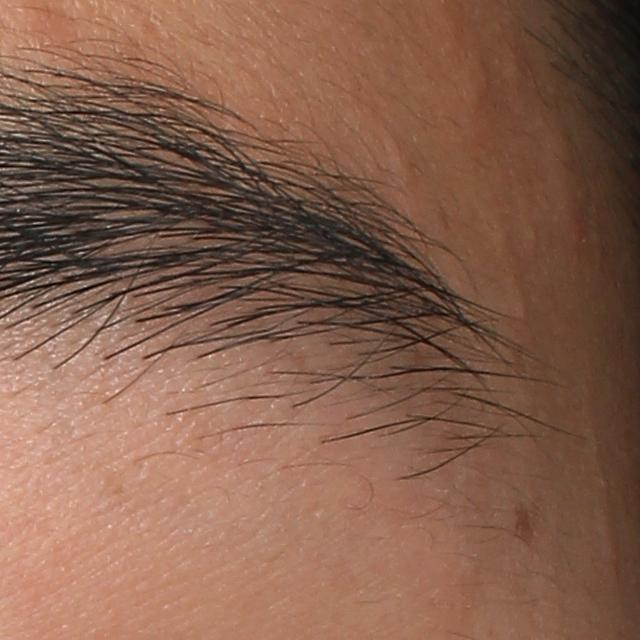nevus: (511, 504, 535, 546)
